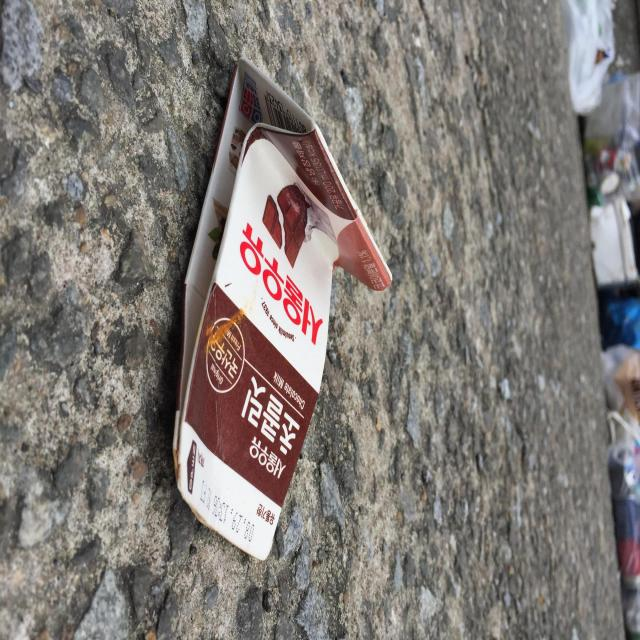paperpack: (173, 57, 392, 560)
